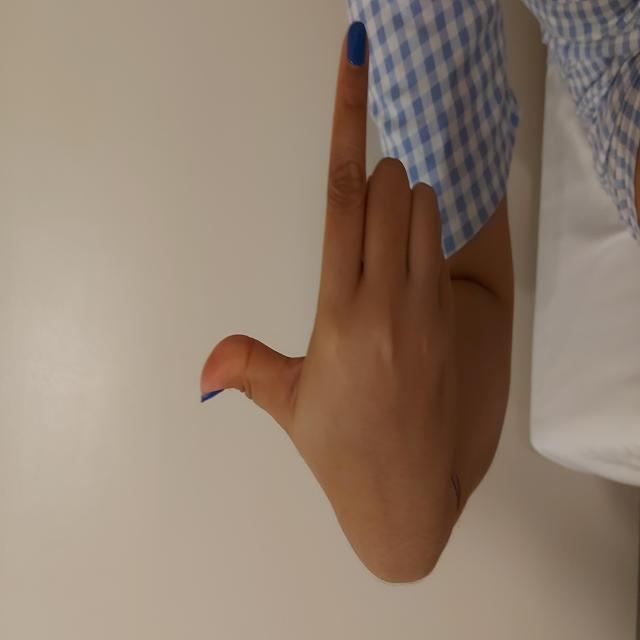G: (55, 198, 621, 460)
